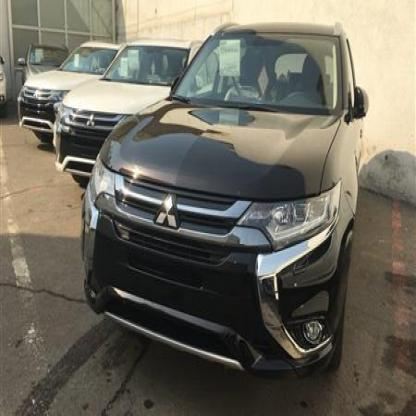Car: (82, 29, 373, 394), (55, 39, 206, 159), (15, 37, 108, 140), (12, 35, 62, 90)
